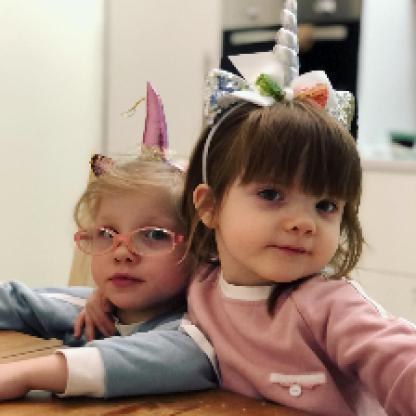child: (1, 96, 415, 416), (1, 154, 189, 347)
